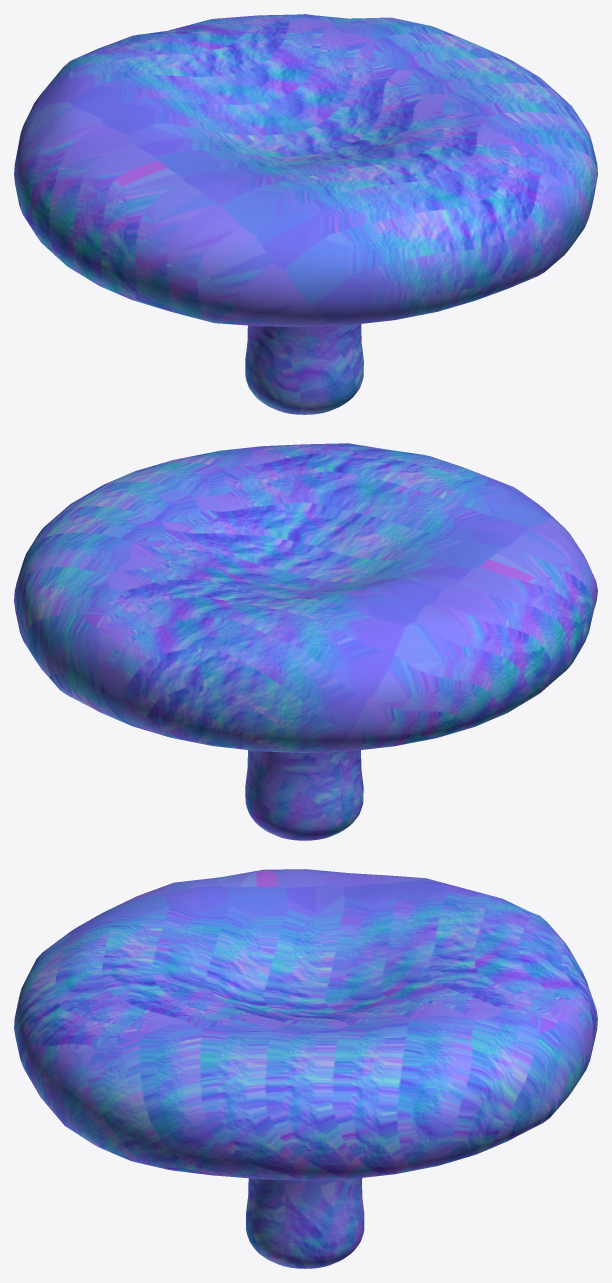
File: lactariusBlue.gltf
3 renders of one model, top to bottom at view 1: azimuth 30°, elevation 25°; view 2: azimuth 150°, elevation 25°; view 3: azimuth 270°, elevation 25°, orthographic.
Parts seen in each view (by area): view 1: Line001; view 2: Line001; view 3: Line001.
Boxes of the visible parts, left/top/right/bottom form: Line001: left=14, top=14, right=597, bottom=414; Line001: left=14, top=443, right=597, bottom=840; Line001: left=14, top=869, right=597, bottom=1268.
Bounding box in the file's own units: 1.95 × 1.12 × 1.96.
2 materials, 2 textured.
